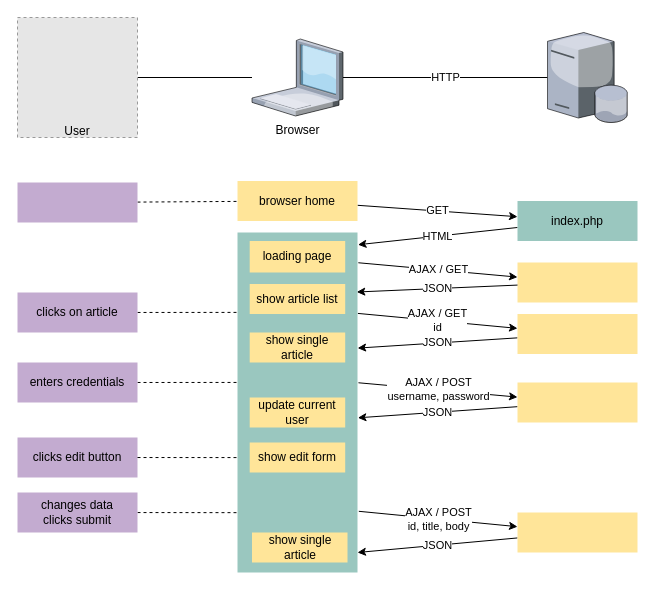
Some shapes in this 655 by 590 pixel diagram are drawn without their labels. Grey dashed boxes stand in for pictures. The centre of each missing label's shape, as x and y in pixels:
"api_article.php" belongs at pixel 577 334.
"api_edit.php" belongs at pixel 577 532.
"api_list.php" belongs at pixel 577 282.
"api_login.php" belongs at pixel 577 402.
"navigates to web site" belongs at pixel 77 202.
"Server" belongs at pixel 587 77.
